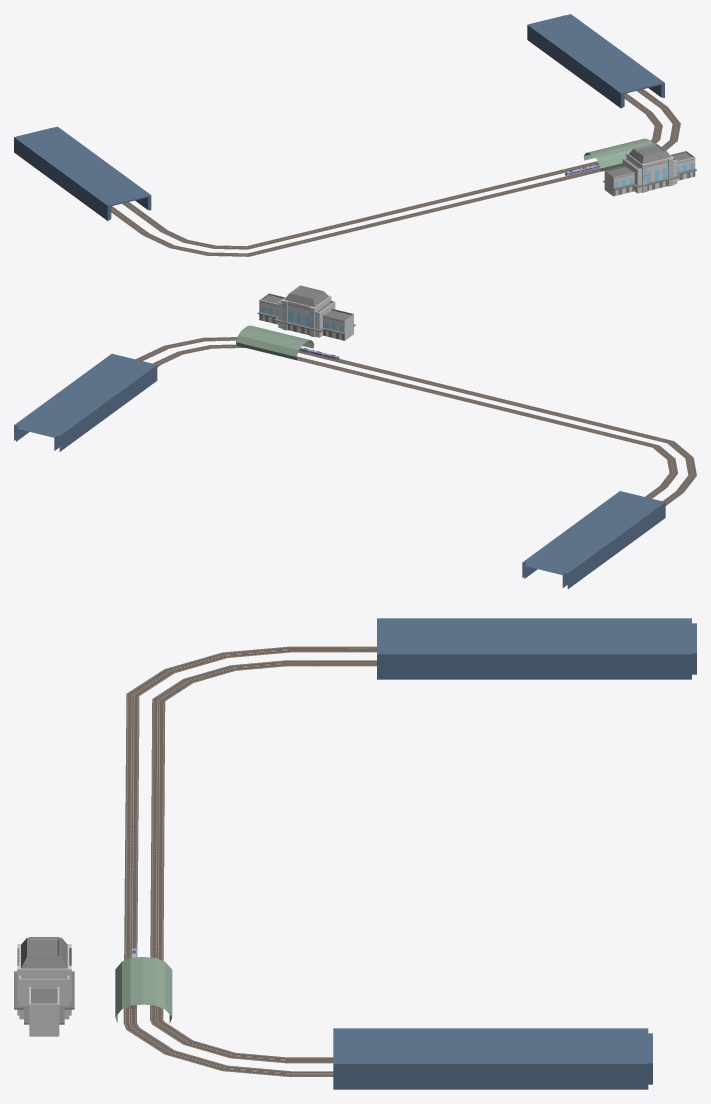
Rendered from railway.obj.
3 renders of one model, top to bottom at view 1: azimuth 30°, elevation 25°; view 2: azimuth 150°, elevation 25°; view 3: azimuth 270°, elevation 25°, orthographic. The views are drawn at different scales.
Parts seen in each view (by area): view 1: railway_tunnel_Cube.006_Cube.001, railway_tunnel.001_Cube.006_Cube.010, railway_house_Mesh.192, railway_road1_vokzal_road1_Plane.001, railway_road2_vokzal_road_Plane.001, railway_tent_Plane.055_Plane.001; view 2: railway_tunnel_Cube.006_Cube.001, railway_tunnel.001_Cube.006_Cube.010, railway_house_Mesh.192, railway_road1_vokzal_road1_Plane.001, railway_road2_vokzal_road_Plane.001, railway_tent_Plane.055_Plane.001; view 3: railway_tunnel.001_Cube.006_Cube.010, railway_tunnel_Cube.006_Cube.001, railway_road1_vokzal_road1_Plane.001, railway_road2_vokzal_road_Plane.001, railway_house_Mesh.192, railway_tent_Plane.055_Plane.001.
Part boxes in pixels (x1,y1,x2,y2): railway_tunnel_Cube.006_Cube.001: (14,126,151,220); railway_tunnel.001_Cube.006_Cube.010: (527,14,664,108); railway_house_Mesh.192: (603,143,696,196); railway_road1_vokzal_road1_Plane.001: (111,89,680,256); railway_road2_vokzal_road_Plane.001: (122,93,662,249); railway_tent_Plane.055_Plane.001: (583,138,653,171); railway_tunnel_Cube.006_Cube.001: (522,491,665,589); railway_tunnel.001_Cube.006_Cube.010: (14,353,157,451); railway_house_Mesh.192: (257,285,355,340); railway_road1_vokzal_road1_Plane.001: (135,337,696,505); railway_road2_vokzal_road_Plane.001: (153,344,677,498); railway_tent_Plane.055_Plane.001: (236,325,314,360); railway_tunnel.001_Cube.006_Cube.010: (333,1028,652,1089); railway_tunnel_Cube.006_Cube.001: (377,618,696,679); railway_road1_vokzal_road1_Plane.001: (123,646,376,1076); railway_road2_vokzal_road_Plane.001: (150,660,376,1063); railway_house_Mesh.192: (14,937,74,1036); railway_tent_Plane.055_Plane.001: (115,957,172,1023).
Size of the model in its own units: 36.44 by 2.29 by 23.6.
Materials: 4 (4 with a texture image).
